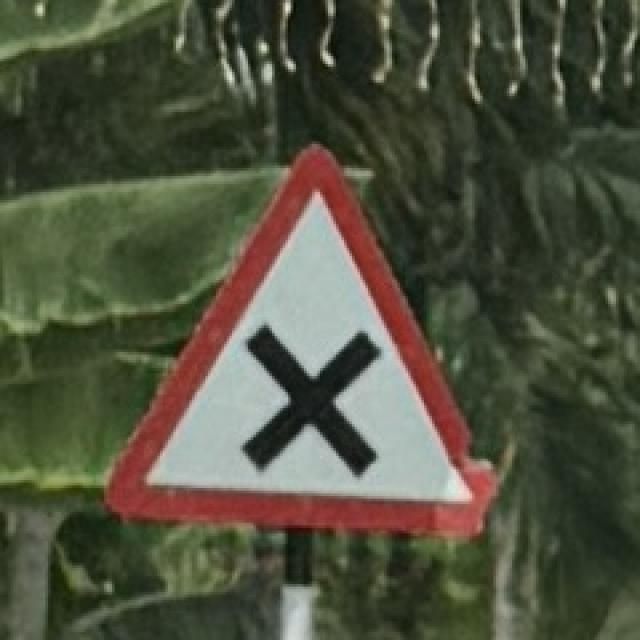CROSS_ROAD: (84, 134, 495, 545)
